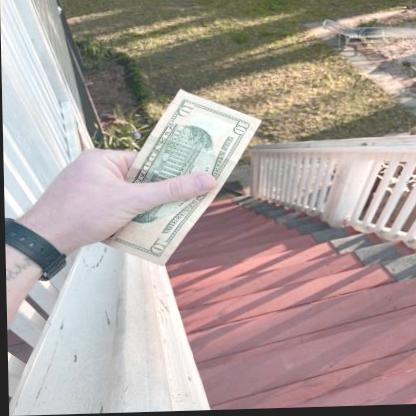ten-back: (92, 91, 262, 267)
